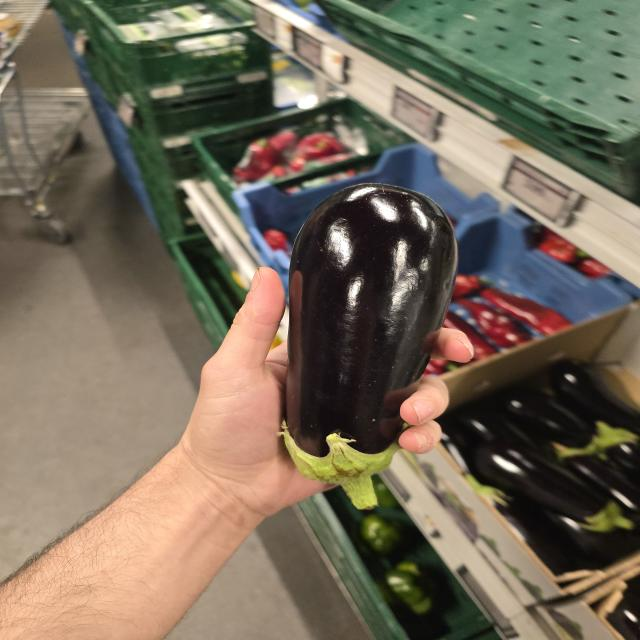Eggplant: (281, 184, 458, 510)
